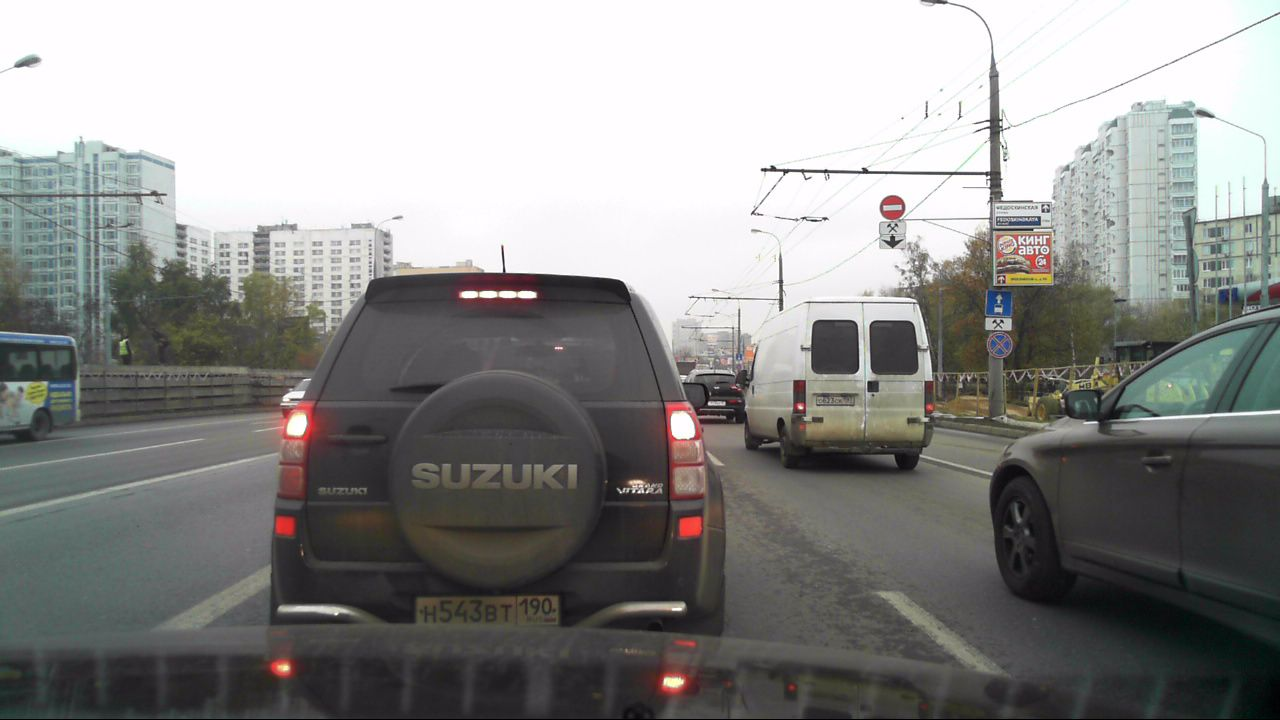No Parking: (987, 332, 1012, 357)
